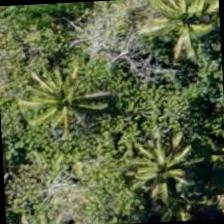Kelapa_Sawit: (13, 52, 108, 147), (120, 128, 215, 222), (141, 0, 223, 73)
